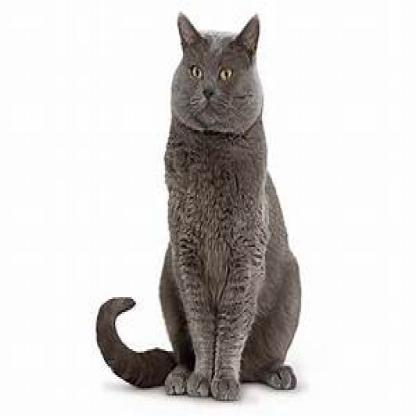cat: (165, 21, 297, 414)
